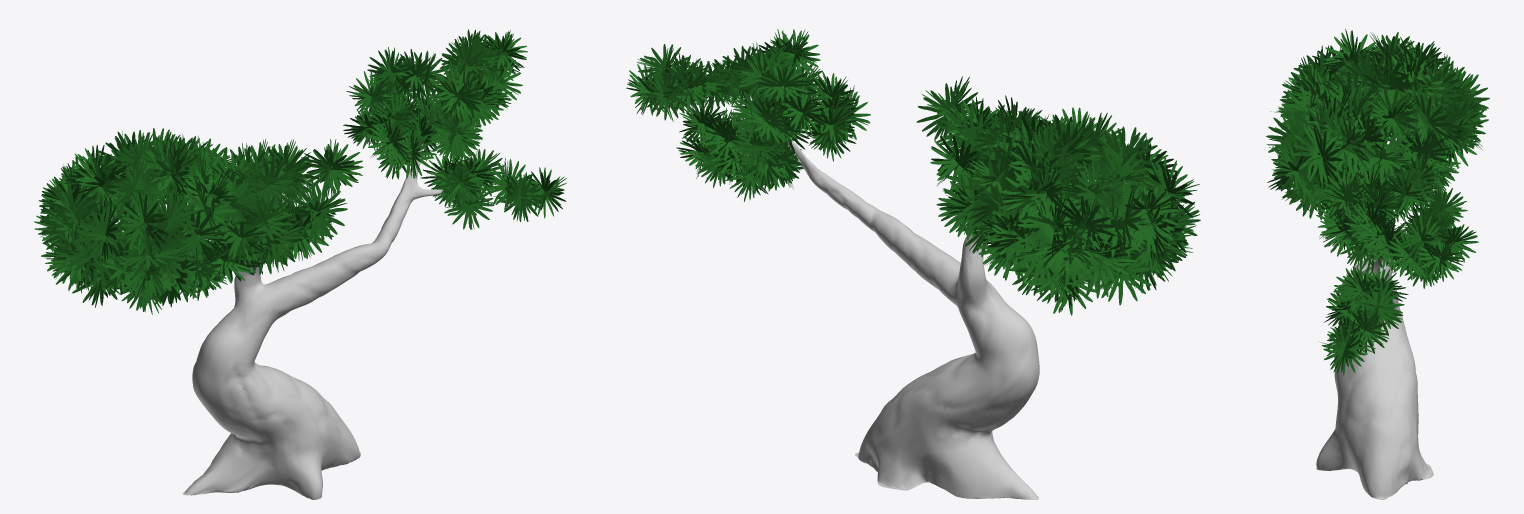
The model's file is Tree01_v3.fbx.
The picture shows the model from 3 angles, left to right: view 1: azimuth 30°, elevation 25°; view 2: azimuth 150°, elevation 25°; view 3: azimuth 270°, elevation 25°; orthographic projection. The views are drawn at different scales.
Visible parts, largest first — view 1: Treeleaf.009, Tree01_v1, Treeleaf.042, Treeleaf.003; view 2: Treeleaf.009, Tree01_v1, Treeleaf.042, Treeleaf.003; view 3: Treeleaf.009, Treeleaf.042, Tree01_v1, Treeleaf.003.
Boxes of the visible parts, <box> form: Treeleaf.009: <box>34,128,363,314</box>; Tree01_v1: <box>182,143,443,499</box>; Treeleaf.042: <box>343,29,527,179</box>; Treeleaf.003: <box>420,149,566,229</box>; Treeleaf.009: <box>916,76,1200,315</box>; Tree01_v1: <box>787,138,1039,499</box>; Treeleaf.042: <box>626,29,870,171</box>; Treeleaf.003: <box>676,132,803,201</box>; Treeleaf.009: <box>1266,29,1489,220</box>; Treeleaf.042: <box>1316,153,1478,288</box>; Tree01_v1: <box>1316,256,1433,499</box>; Treeleaf.003: <box>1318,266,1408,375</box>.
Bounding box in the file's own units: 1871 × 1321 × 812.
